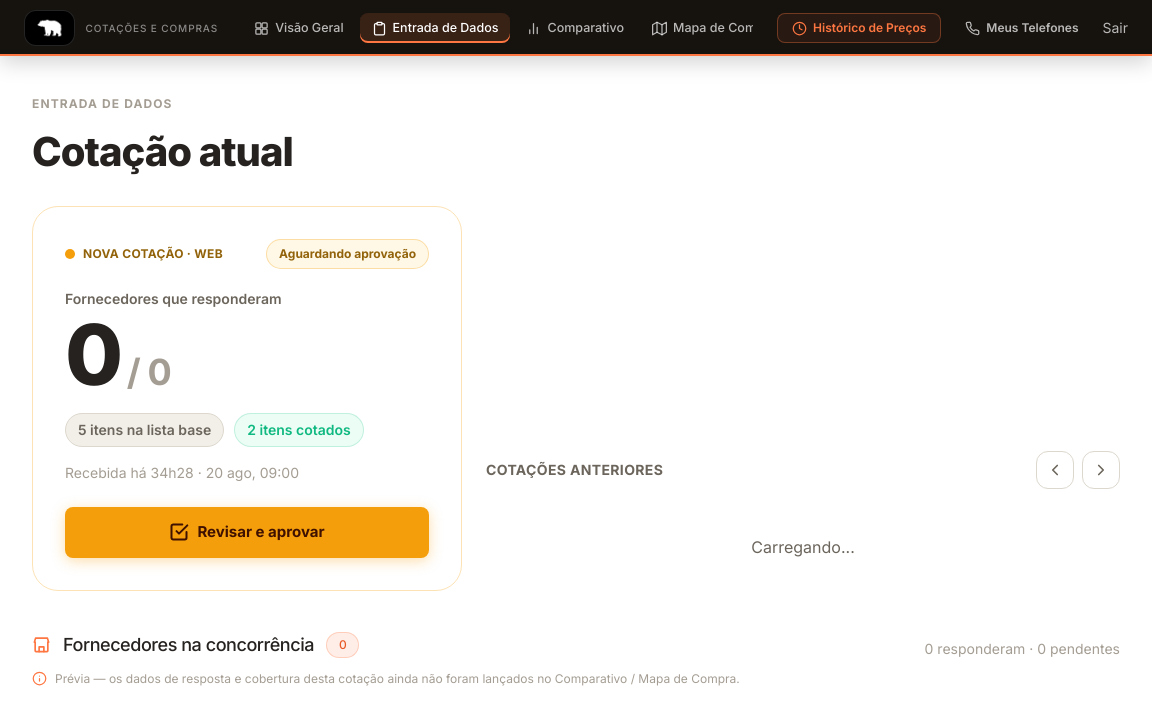
Test case: EntradaLandingPage — abrir o AprovacaoModal sob demanda › erro ao buscar os dados completos mostra mensagem, sem abrir o modal
Click the button "Revisar e aprovar". click: (247, 532)
box: [65, 507, 429, 558]
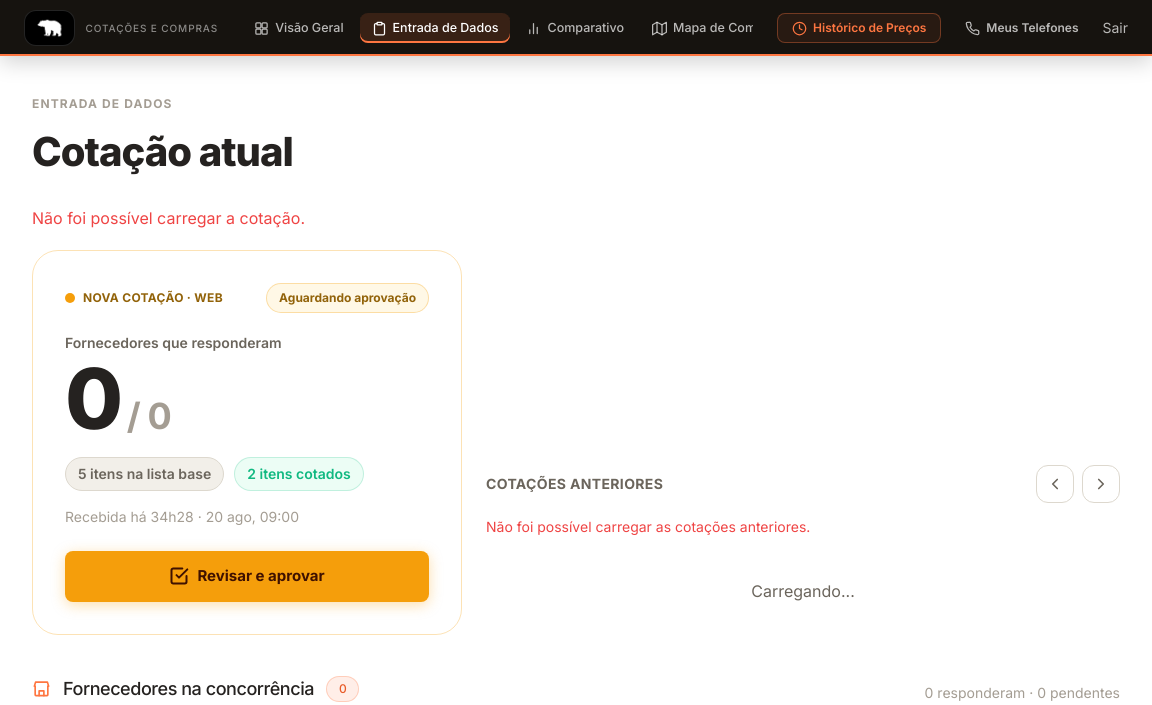
expect the text "Não foi possível carregar a cotação." is shown: met, box [32, 208, 305, 228]
